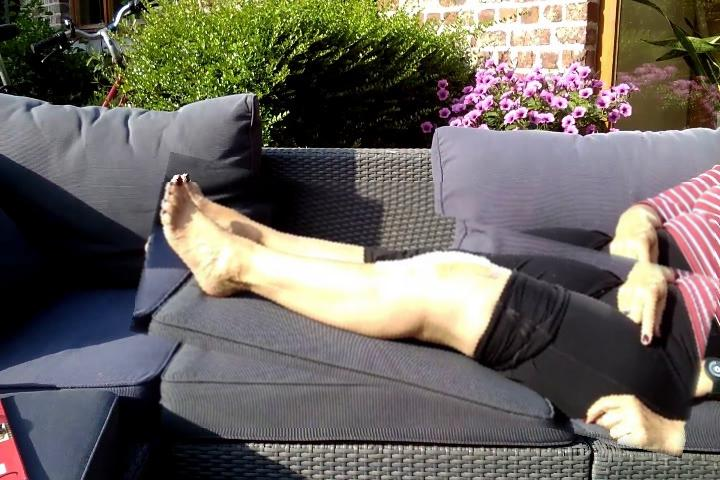lower_body: (137, 183, 717, 429)
